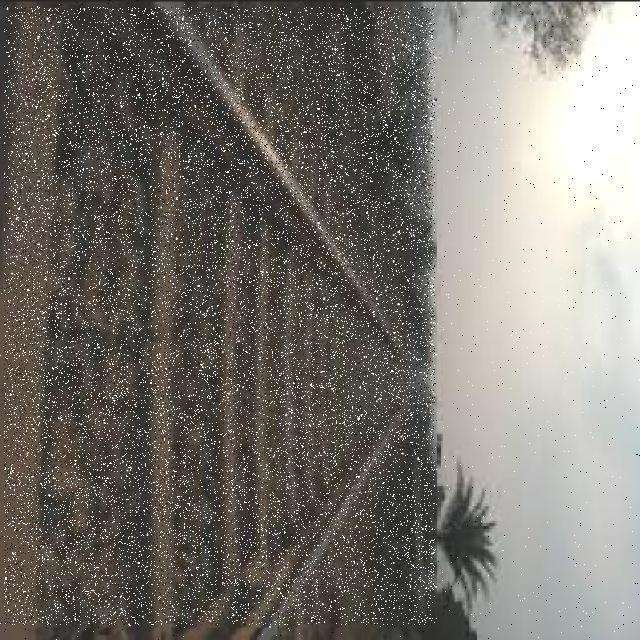rail: (4, 8, 435, 625)
